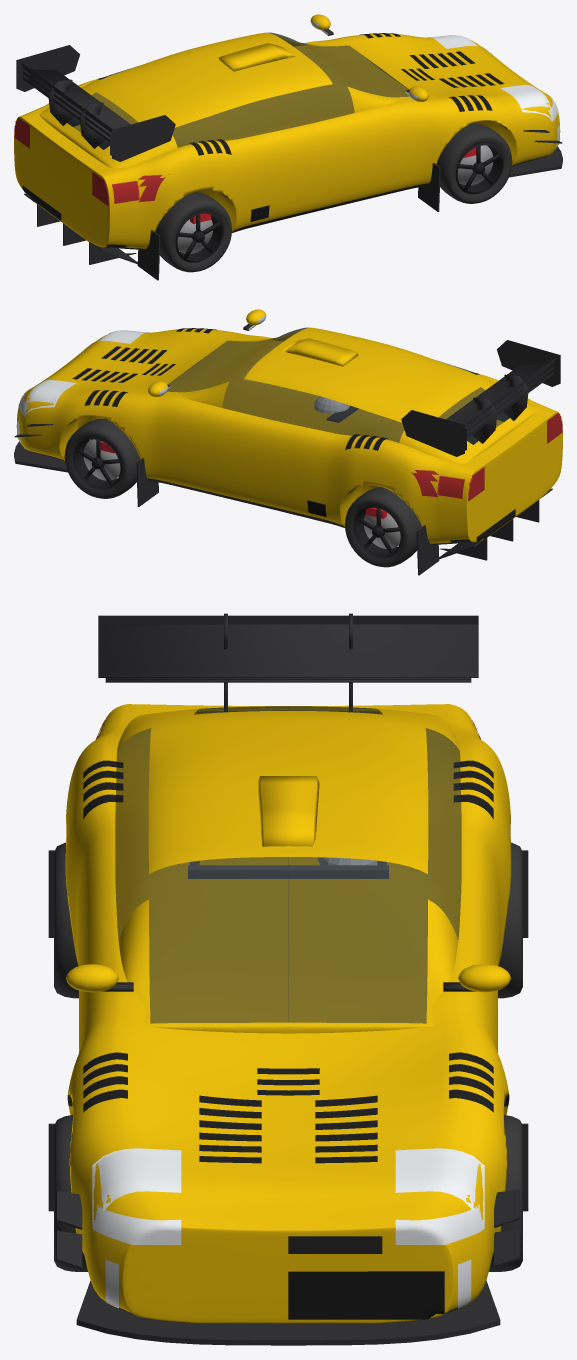
File: renault_megane_rs_rx.glb
3 views of the same model, one above another, from view 1: azimuth 30°, elevation 25°; view 2: azimuth 150°, elevation 25°; view 3: azimuth 270°, elevation 25° (orthographic). The views are drawn at different scales.
Parts seen in each view (by area): view 1: body, cabin, bumper_rear, wing_rear_up3, wheel_fr_spin, wheel_rr_spin, bumper_front, mudflaps, diffuser, wing_rear_up2, wing_rear, splitter (+1 smaller); view 2: body, cabin, bumper_rear, wing_rear_up3, wheel_fl_spin, bumper_front, wheel_rl_spin, mudflaps, diffuser, wing_rear_up2, wing_rear, interior (+2 smaller); view 3: body, cabin, bumper_front, wing_rear_up3, splitter_up, splitter, canards, interior, bumper_rear, wheel_rl_spin, wheel_rr_spin, mudflaps (+5 smaller).
Boxes of the visible parts, left/top/right/bottom form: body: left=45, top=33, right=525, bottom=249; cabin: left=39, top=32, right=410, bottom=168; bumper_rear: left=14, top=106, right=139, bottom=249; wing_rear_up3: left=16, top=45, right=175, bottom=161; wheel_fr_spin: left=436, top=123, right=512, bottom=203; wheel_rr_spin: left=155, top=192, right=231, bottom=272; bumper_front: left=427, top=35, right=560, bottom=162; mudflaps: left=137, top=163, right=440, bottom=280; diffuser: left=24, top=193, right=137, bottom=264; wing_rear_up2: left=18, top=58, right=111, bottom=152; wing_rear: left=18, top=65, right=111, bottom=155; splitter: left=510, top=151, right=556, bottom=172; body: left=51, top=328, right=531, bottom=544; cabin: left=166, top=327, right=537, bottom=463; bumper_rear: left=437, top=401, right=562, bottom=544; wing_rear_up3: left=401, top=340, right=560, bottom=456; wheel_fl_spin: left=64, top=418, right=140, bottom=498; bumper_front: left=16, top=330, right=149, bottom=457; wheel_rl_spin: left=345, top=487, right=421, bottom=567; mudflaps: left=136, top=458, right=439, bottom=575; diffuser: left=439, top=488, right=552, bottom=560; wing_rear_up2: left=465, top=353, right=558, bottom=448; wing_rear: left=465, top=360, right=558, bottom=450; interior: left=314, top=396, right=358, bottom=422; body: left=65, top=724, right=511, bottom=1254; cabin: left=115, top=706, right=461, bottom=1033; bumper_front: left=80, top=1148, right=496, bottom=1323; wing_rear_up3: left=98, top=613, right=478, bottom=712; splitter_up: left=76, top=1280, right=500, bottom=1345; splitter: left=86, top=1289, right=489, bottom=1334; canards: left=56, top=1189, right=519, bottom=1269; interior: left=188, top=857, right=388, bottom=878; bumper_rear: left=95, top=704, right=481, bottom=739; wheel_rl_spin: left=498, top=842, right=522, bottom=998; wheel_rr_spin: left=54, top=842, right=78, bottom=998; mudflaps: left=48, top=850, right=528, bottom=1211.
Bounding box in the file's own units: 4.46 × 1.43 × 1.98.
